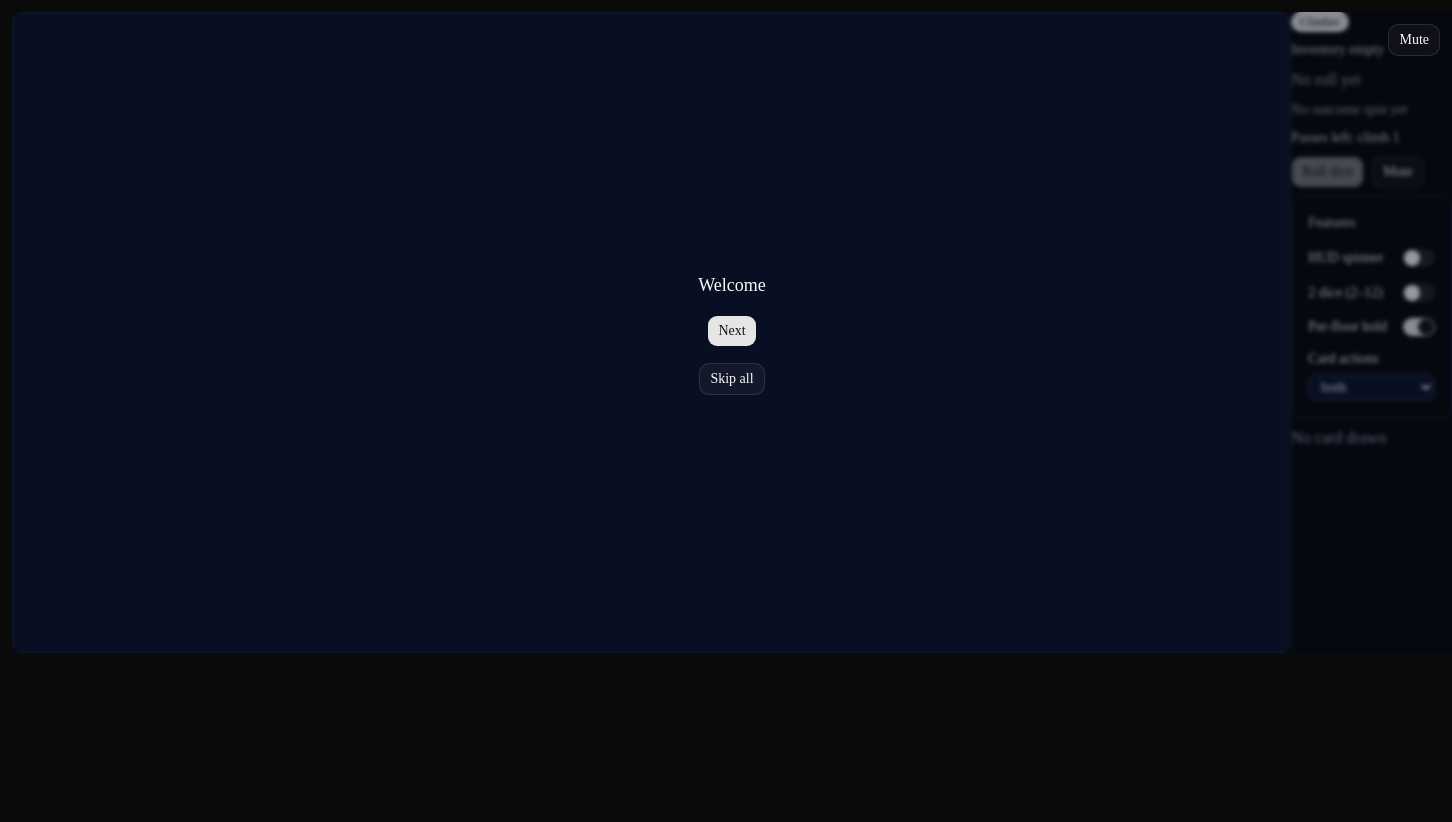
Test: GameHud › locks Roll behind splash then Play
The width and height of the screenshot is (1452, 822).
Expected: the text "Welcome" is shown, [698,271,766,299]
Expected: the button "Roll dice" is disabled, [1291,156,1364,188]
Click the button "Next" at (732, 331), box [707,315,757,347]
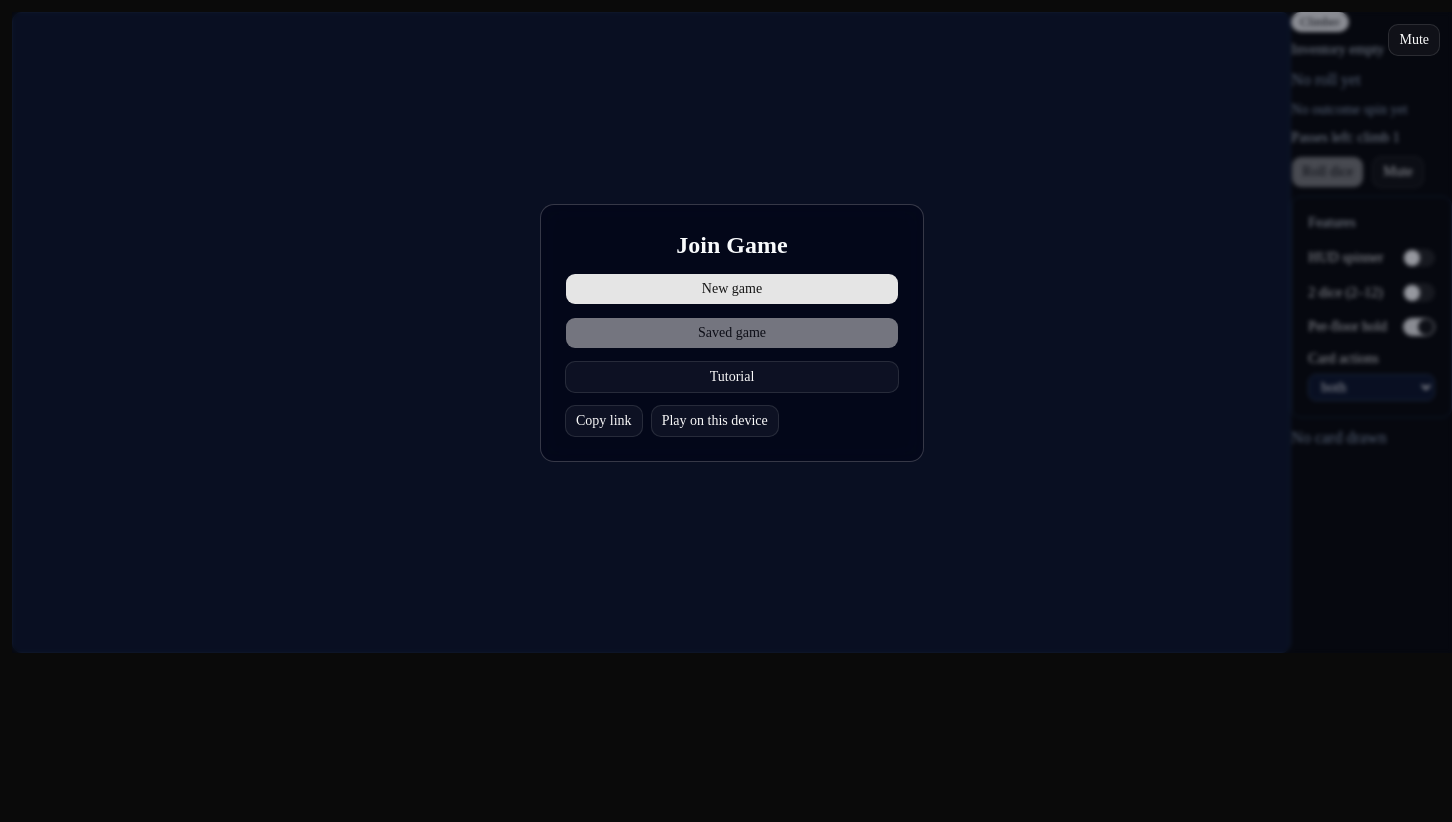
Result: the button "Saved game" is disabled at [565,317,899,349]
Click the button "New game" at (732, 289), box [565,273,899,305]
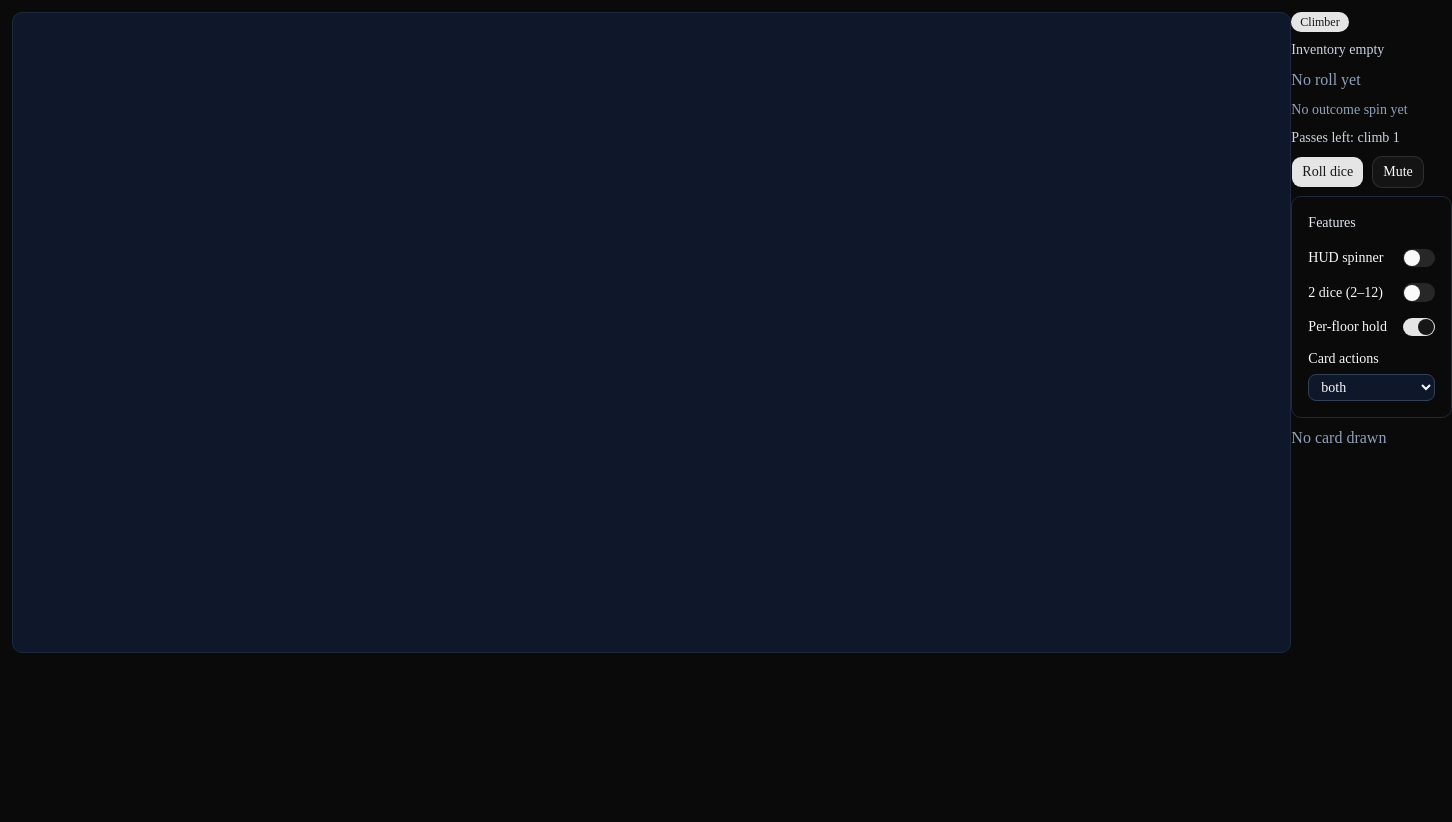
Result: the element with test id "game-start-overlay" is gone
Result: the button "Roll dice" is enabled at [1291,156,1364,188]
